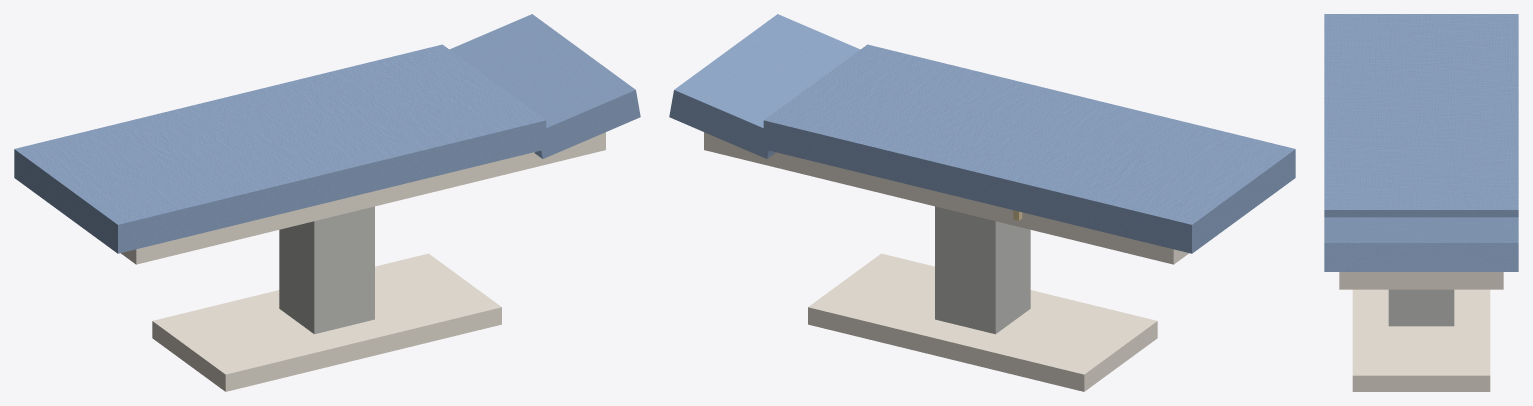
The model's file is maca_profissional.glb.
The picture shows the model from 3 angles, left to right: view 1: azimuth 30°, elevation 25°; view 2: azimuth 150°, elevation 25°; view 3: azimuth 270°, elevation 25°; orthographic projection. The views are drawn at different scales.
Visible parts, largest first — view 1: maca_profissional; view 2: maca_profissional; view 3: maca_profissional.
Boxes of the visible parts, x1,y1,x2,y2 form: maca_profissional: (14,14,640,391); maca_profissional: (669,14,1295,391); maca_profissional: (1324,14,1518,391).
Size of the model in its own units: 1.89 by 0.7497 by 0.65.
4 materials, 1 textured.
